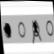correct: (2, 19, 13, 41)
no answer: (44, 19, 54, 40), (17, 18, 27, 39)
not correct: (29, 18, 42, 45)
